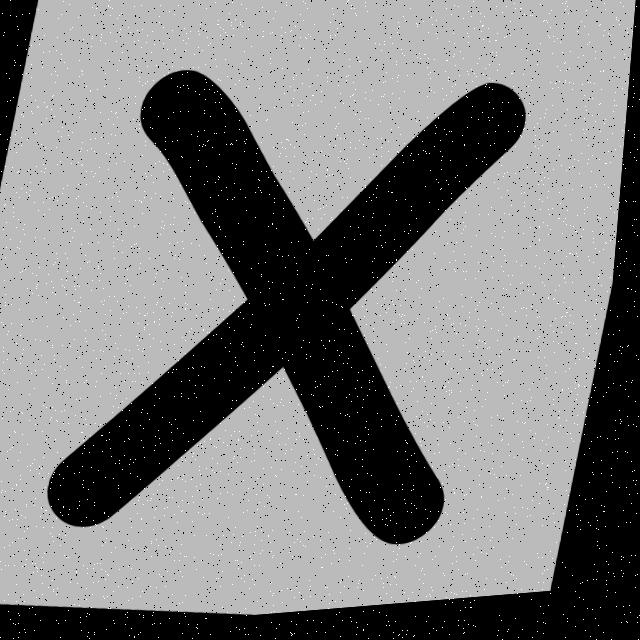X: (56, 74, 527, 550)
